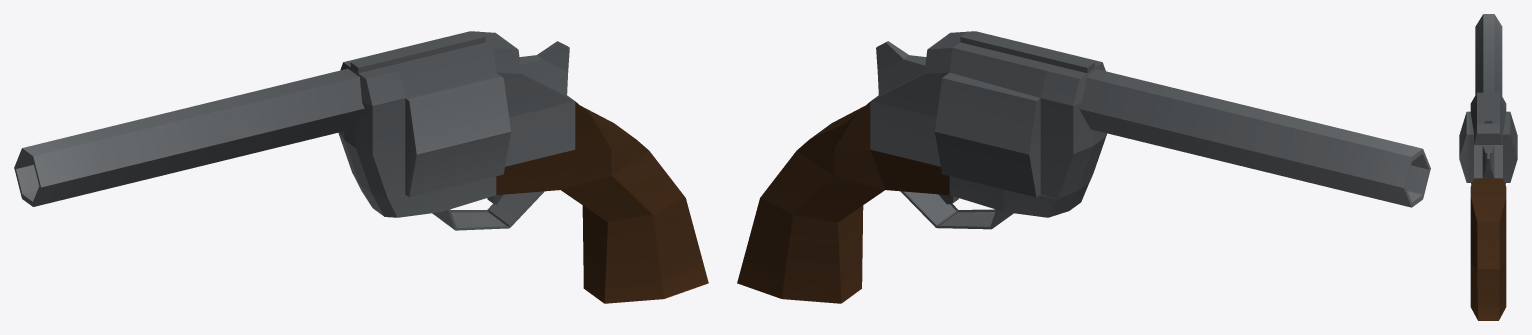
Rendered from revolver.fbx.
The picture shows the model from 3 angles, left to right: view 1: azimuth 30°, elevation 25°; view 2: azimuth 150°, elevation 25°; view 3: azimuth 270°, elevation 25°; orthographic projection. The views are drawn at different scales.
Parts seen in each view (by area): view 1: Cube.001; view 2: Cube.001; view 3: Cube.001.
Part boxes in pixels (x1=…): Cube.001: x1=14, y1=31, x2=708, y2=303; Cube.001: x1=737, y1=31, x2=1430, y2=303; Cube.001: x1=1459, y1=14, x2=1517, y2=320.
Size of the model in its own units: 109 by 45.73 by 16.5.
Materials: 2 (2 with a texture image).
